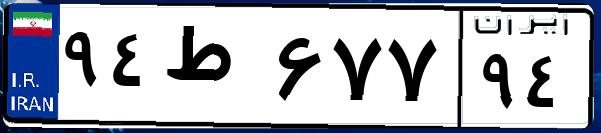4: (525, 38, 570, 115), (110, 28, 158, 98)
6: (270, 28, 330, 110)
7: (385, 28, 445, 110), (330, 28, 385, 110)
9: (57, 26, 110, 100), (475, 38, 525, 113)
ط: (158, 20, 270, 120)
